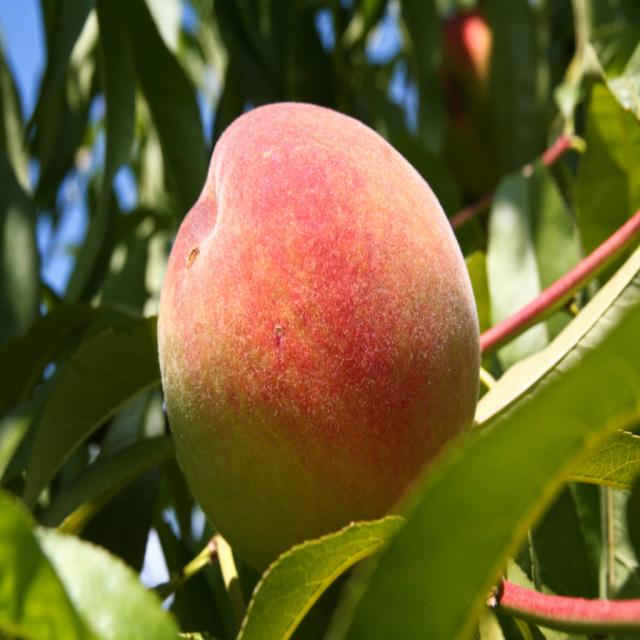Peach: (158, 99, 480, 576), (443, 11, 493, 100)
